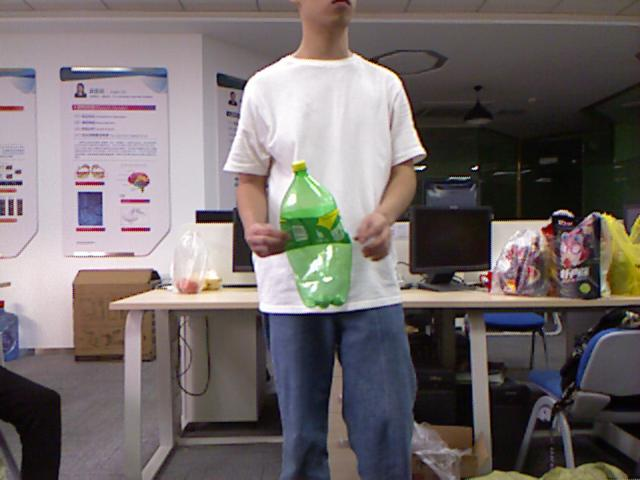cardboard paper: (73, 269, 158, 359)
plastic: (280, 161, 351, 307)
